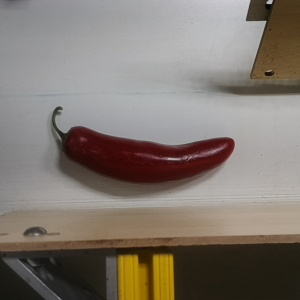Cut Point: (53, 124, 86, 160)
